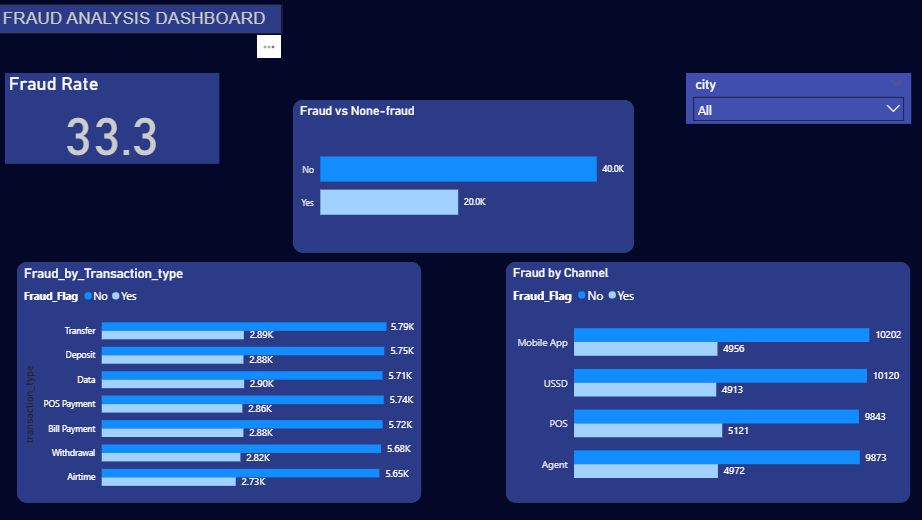

The dashboard page shown, as its layout file describes it:
{"tool":"powerbi","page":{"name":"fraud dash board","canvas":[1280,720],"ordinal":2},"visuals":[{"type":"clusteredBarChart","title":"Fraud vs None-fraud","fields":{"Category":["opay_analysis fraud_view.Fraud_Flag"],"Y":["CountNonNull(opay_analysis fraud_view.transaction_id)"]},"box":[403.3,137.6,472.1,213.3],"z":0},{"type":"clusteredBarChart","title":"Fraud by Channel","fields":{"Category":["opay_analysis fraud_view.channel"],"Series":["opay_analysis fraud_view.Fraud_Flag"],"Y":["CountNonNull(opay_analysis dashboard.Transaction_ID)"]},"box":[696.4,360.6,558.8,334.5],"z":1000},{"type":"clusteredBarChart","title":"Fraud_by_Transaction_type","fields":{"Category":["opay_analysis fraud_view.transaction_type"],"Series":["opay_analysis fraud_view.Fraud_Flag"],"Y":["CountNonNull(opay_analysis fraud_view.transaction_id)"]},"box":[23.4,360.6,558.8,334.5],"z":2000},{"type":"slicer","fields":{"Values":["opay_analysis fraud_view.city"]},"box":[927.7,12.4,309.7,70.2],"z":3000},{"type":"card","title":"Fraud Rate","fields":{"Values":["opay_analysis fraud_view.Fruad rate"]},"box":[23.4,12.4,294.5,125.2],"z":4000}]}

Visuals, with their boxes in screenshot pixels (x1, y1, x2, y2), scaled from the page's 1280x720 canvas onto the 922x520 screenshot:
"Fraud vs None-fraud" clusteredBarChart: left=291, top=99, right=631, bottom=253
"Fraud by Channel" clusteredBarChart: left=502, top=260, right=904, bottom=502
"Fraud_by_Transaction_type" clusteredBarChart: left=17, top=260, right=419, bottom=502
slicer - opay_analysis fraud_view.city: left=668, top=9, right=891, bottom=60
"Fraud Rate" card: left=17, top=9, right=229, bottom=99
